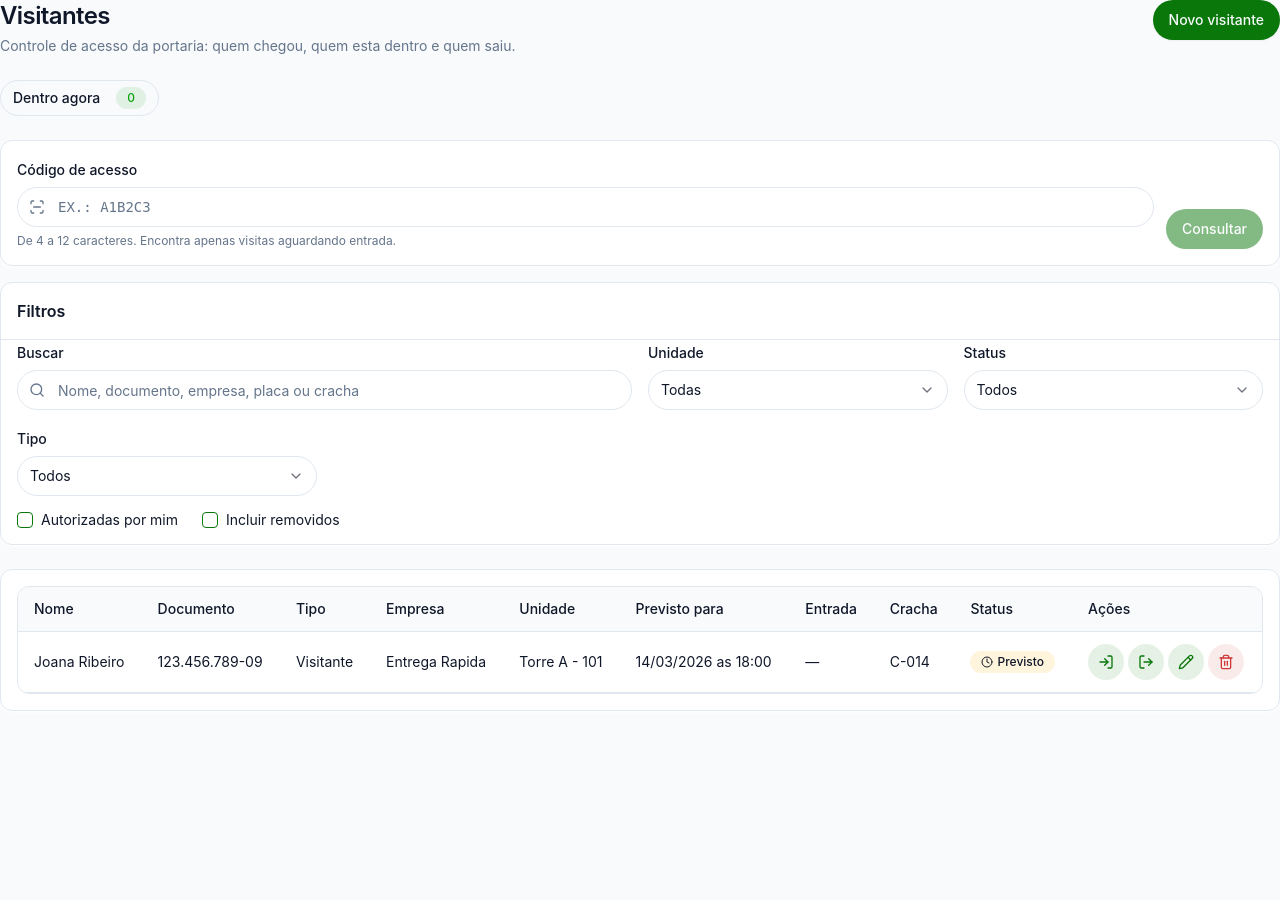
Scenario: Exclusao e restauração de visitantes › excluir pede confirmação antes de remover
Expected: the text "Joana Ribeiro" is shown, top-left (34, 652), bottom-right (124, 672)
Step 1. Click the button named "Excluir Joana Ribeiro" → (1226, 662), box top-left (1208, 644), bottom-right (1244, 680)
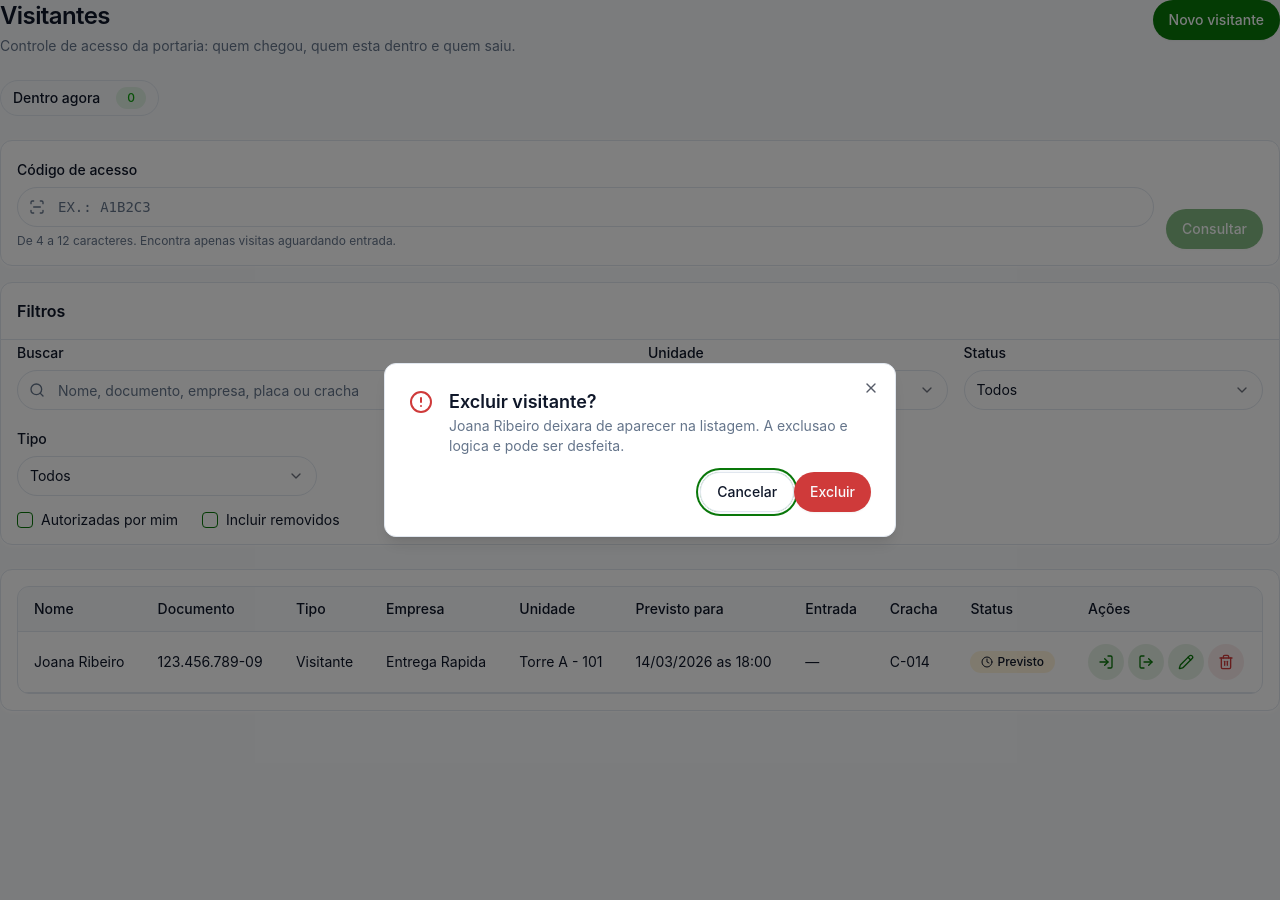
Now the heading "Excluir visitante?" is shown, box top-left (449, 391), bottom-right (597, 412)
Step 2. Click the button "Excluir" → (833, 492), box top-left (794, 472), bottom-right (871, 512)
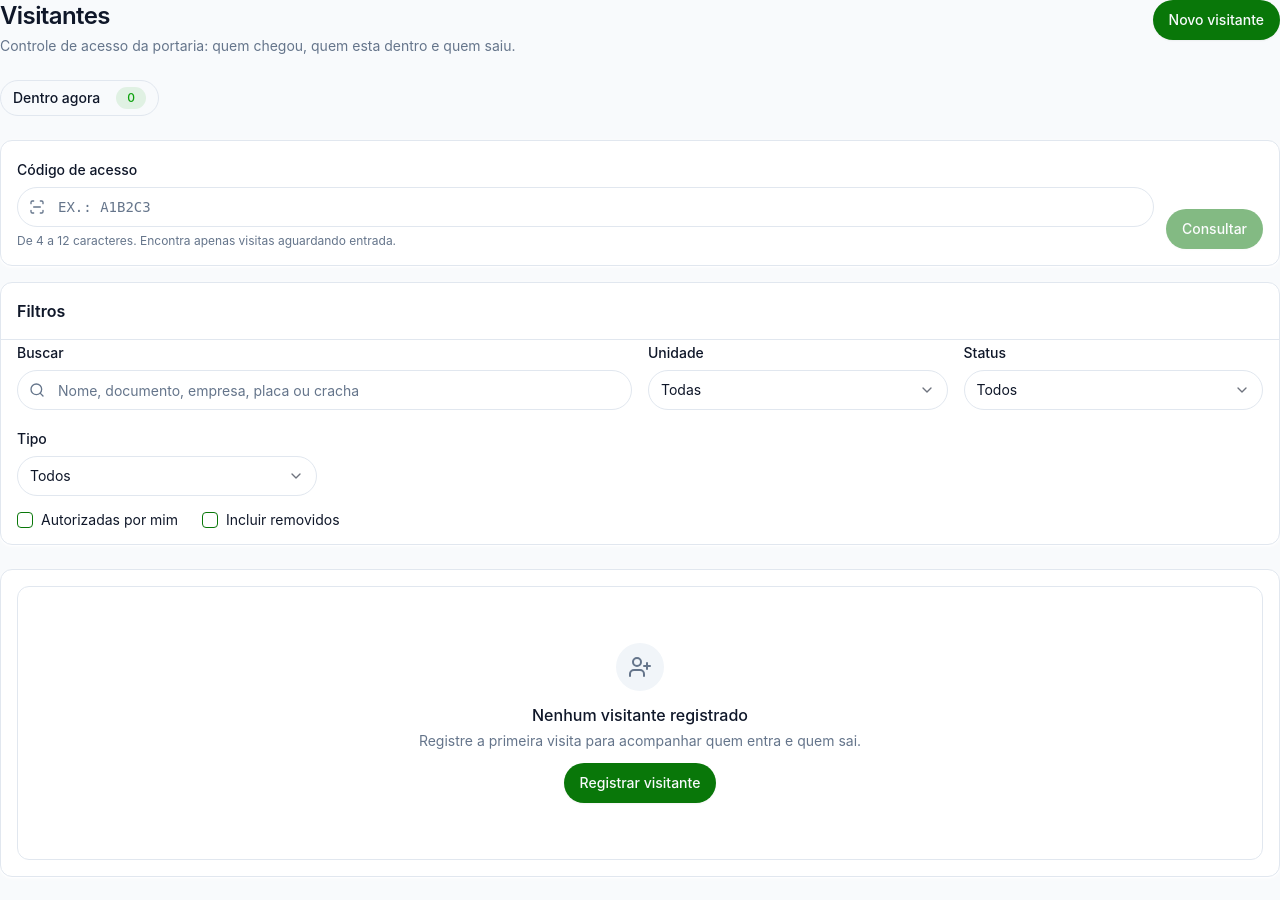
Now the text "Joana Ribeiro" is gone
